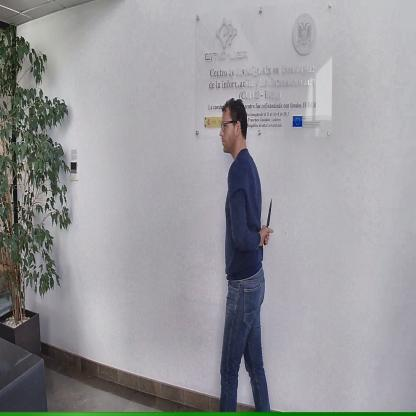knife: (262, 194, 274, 248)
